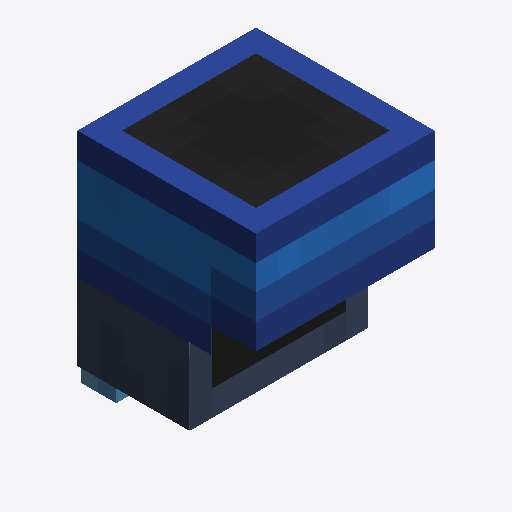
A Minecraft block model of 6 cuboids, rendered isometrically (azimuth 45°, elevation 35.3°) with the resource pack's own textures.
Visible parts, largest first — element 1, element 2, element 6.
Part boxes in pixels (x1,y1,x2,y2): element 1: (77,28,434,429); element 2: (190,287,367,429); element 6: (81,368,127,402).
Size of the model in its own units: 3.5 by 4.26 by 3.5.